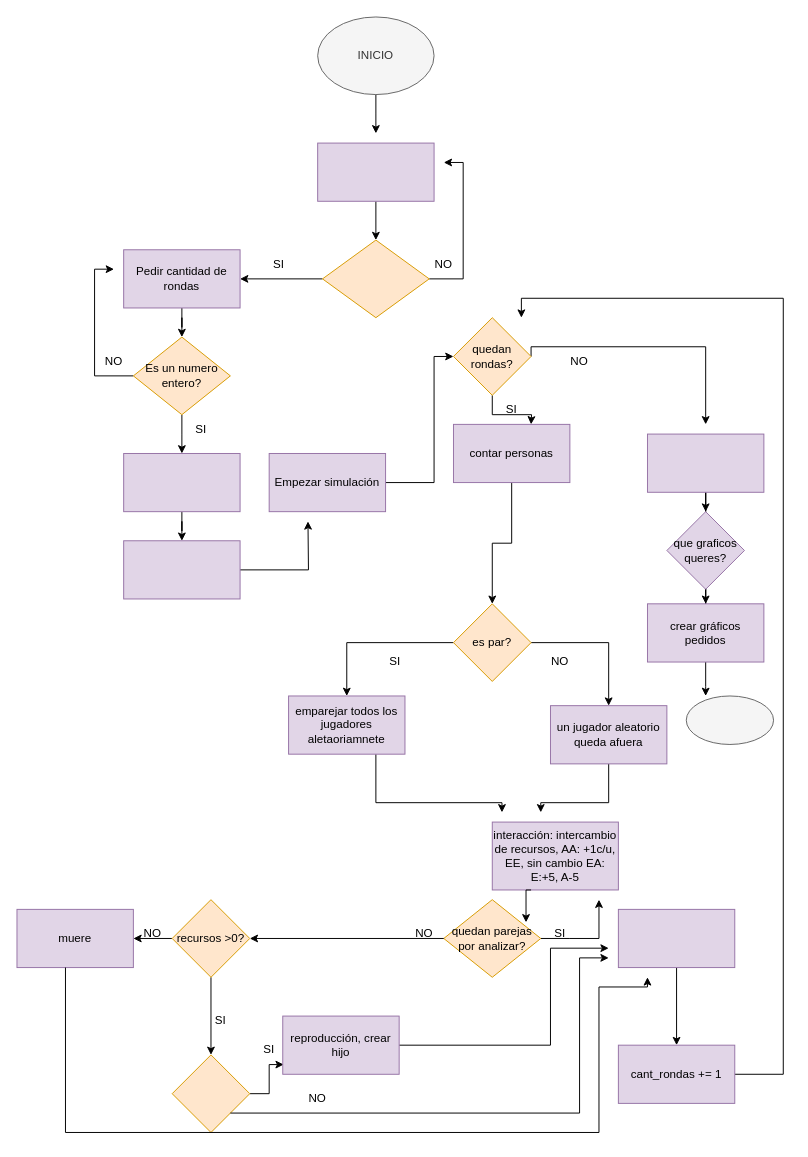
This 808x1157 diagram has some shape labels left out. Here are the shapes that lost their labels. From the top down, the centre of each, then its label:
At point 375,171: "Pedir cantidad de egoístas y altruistas".
At point 375,278: "Es un número entero?".
At point 181,482: "generar objetos de personas".
At point 705,462: "Fin de simulacion".
At point 181,569: "generar objeto de población".
At point 729,719: "FIN".
At point 676,938: "guardar data frame de turnos".
At point 210,1093: "recursos > umbral?".
